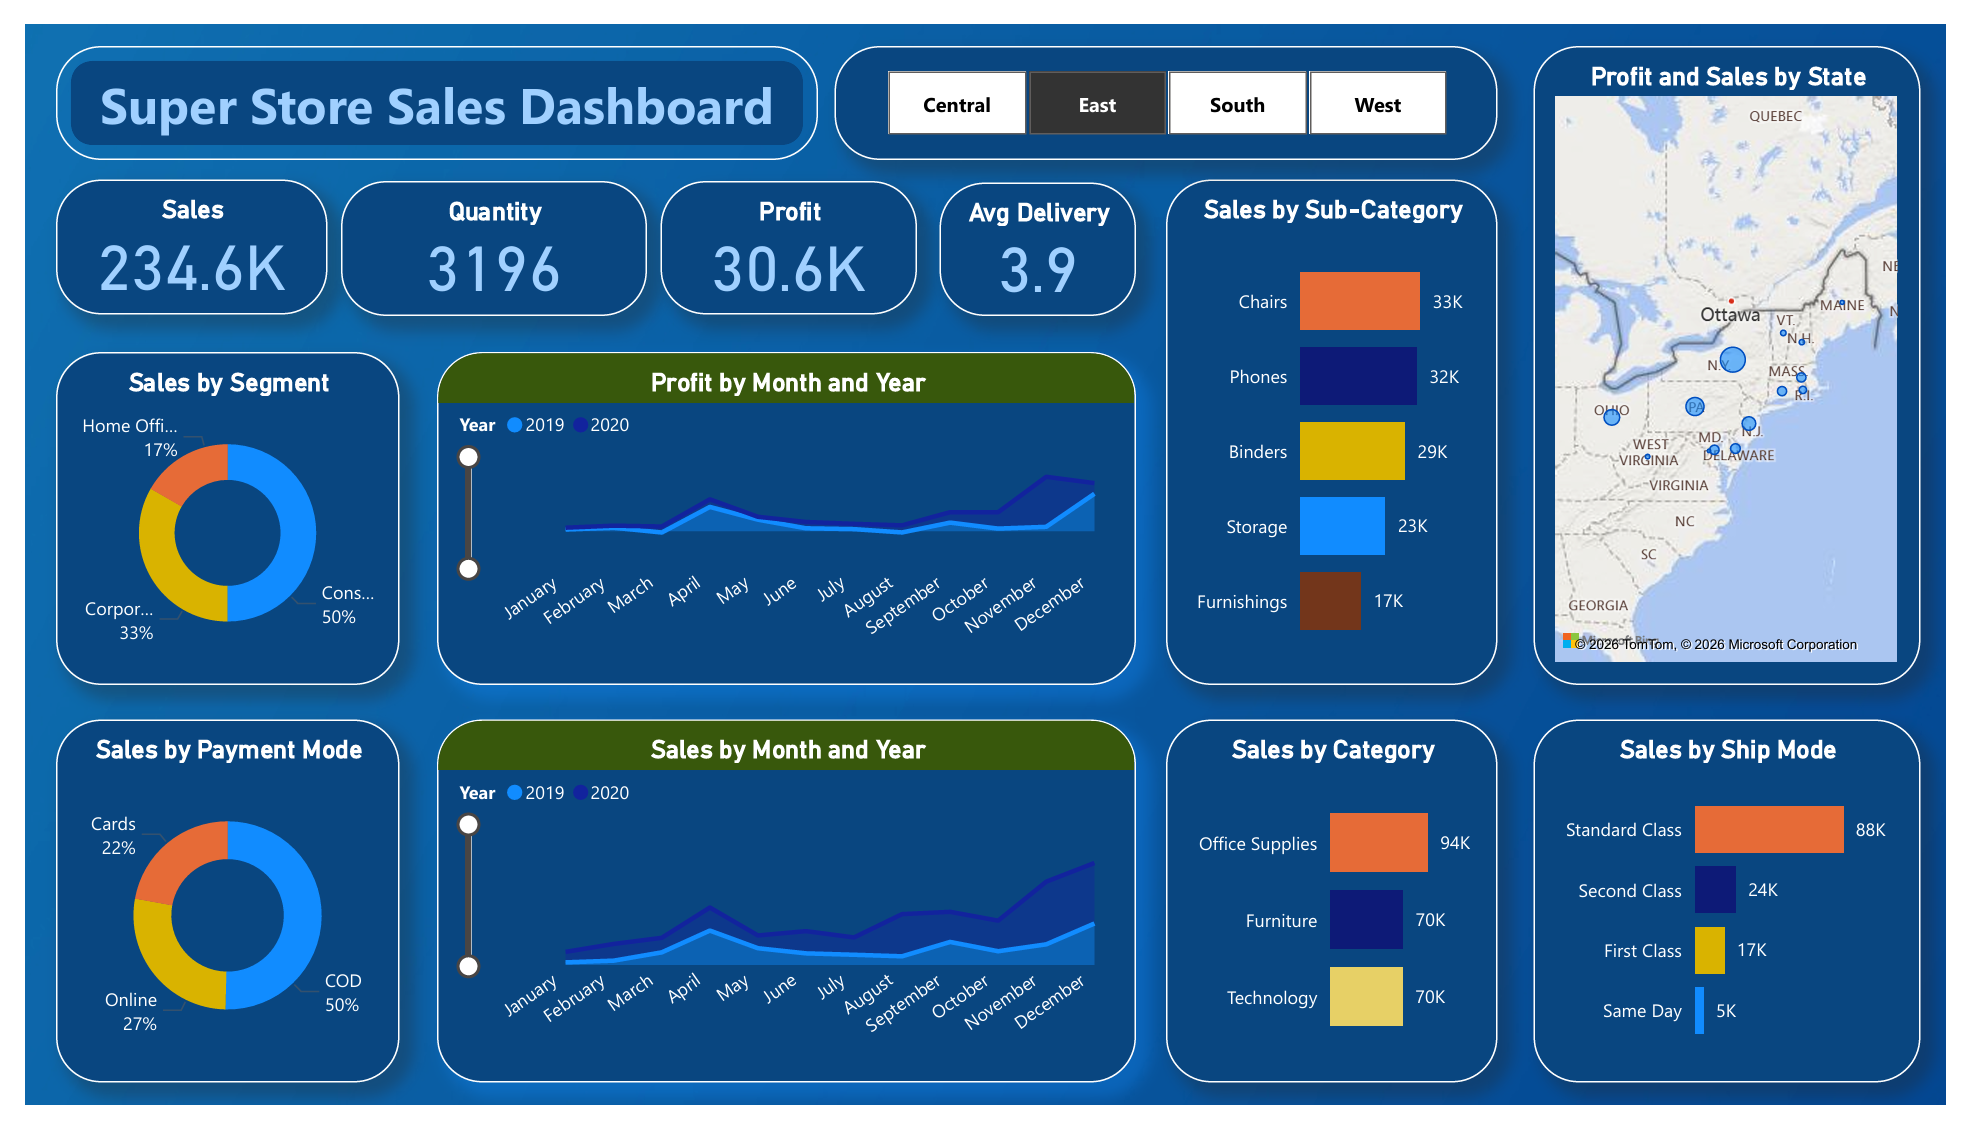

Layout of this report page (visuals, bound fields, positions):
{"tool":"powerbi","page":{"name":"Page 1","canvas":[1280,720],"ordinal":0},"visuals":[{"type":"clusteredBarChart","title":"Sales by Category","fields":{"Category":["SuperStore_Sales_Dataset.Category"],"Y":["Sum(SuperStore_Sales_Dataset.Sales)"]},"box":[760,462.5,221.2,242.5],"z":0},{"type":"shape","title":"Super Store Sales Dashboard","box":[20,13.8,507.5,76.2],"z":1000},{"type":"donutChart","title":"Sales by Segment","fields":{"Category":["SuperStore_Sales_Dataset.Segment"],"Y":["Sum(SuperStore_Sales_Dataset.Sales)"]},"box":[20,217.5,228.8,222.5],"z":2000},{"type":"clusteredBarChart","title":"Sales by Sub-Category","fields":{"Y":["Sum(SuperStore_Sales_Dataset.Sales)"],"Category":["SuperStore_Sales_Dataset.Sub-Category"]},"box":[760,102.5,221.2,337.5],"z":3000},{"type":"stackedAreaChart","title":"Sales by Month and Year","fields":{"Category":["SuperStore_Sales_Dataset.Order Date New.Variation.Date Hierarchy.Month"],"Y":["Sum(SuperStore_Sales_Dataset.Sales)"],"Series":["SuperStore_Sales_Dataset.Order Date New.Variation.Date Hierarchy.Year"]},"box":[273.8,462.5,466.2,242.5],"z":4000},{"type":"stackedAreaChart","title":"Profit by Month and Year","fields":{"Category":["SuperStore_Sales_Dataset.Order Date New.Variation.Date Hierarchy.Month"],"Series":["SuperStore_Sales_Dataset.Order Date New.Variation.Date Hierarchy.Year"],"Y":["Sum(SuperStore_Sales_Dataset.Profit)"]},"box":[273.8,217.5,466.2,222.5],"z":5000},{"type":"map","title":"Profit and Sales by State","fields":{"Category":["SuperStore_Sales_Dataset.State"],"Size":["Sum(SuperStore_Sales_Dataset.Sales)"]},"box":[1005,13.8,257.5,426.2],"z":6000},{"type":"donutChart","title":"Sales by Payment Mode","fields":{"Y":["Sum(SuperStore_Sales_Dataset.Sales)"],"Category":["SuperStore_Sales_Dataset.Payment Mode"]},"box":[20,462.5,228.8,242.5],"z":7000},{"type":"slicer","fields":{"Values":["SuperStore_Sales_Dataset.Region"]},"box":[538.8,13.8,442.5,76.2],"z":8000},{"type":"card","title":"Sales","fields":{"Values":["Sum(SuperStore_Sales_Dataset.Sales)"]},"box":[20,102.5,181.2,90],"z":9000},{"type":"card","title":"Quantity","fields":{"Values":["Sum(SuperStore_Sales_Dataset.Quantity)"]},"box":[210,103.8,203.8,90],"z":10000},{"type":"card","title":"Profit","fields":{"Values":["Sum(SuperStore_Sales_Dataset.Profit)"]},"box":[422.5,103.8,171.2,88.8],"z":11000},{"type":"card","title":"Avg Delivery","fields":{"Values":["Avg(SuperStore_Sales_Dataset.AvgDelivery)"]},"box":[608.8,105,131.2,88.8],"z":12000},{"type":"clusteredBarChart","title":"Sales by Ship Mode","fields":{"Y":["Sum(SuperStore_Sales_Dataset.Sales)"],"Category":["SuperStore_Sales_Dataset.Ship Mode"]},"box":[1005,462.5,257.5,242.5],"z":13000}]}

Visuals, with their boxes in screenshot pixels (x1, y1, x2, y2), scaled from the page's 1280x720 canvas onto the 1969x1131 screenshot:
"Sales by Category" clusteredBarChart: {"x1": 1169, "y1": 727, "x2": 1509, "y2": 1107}
"Super Store Sales Dashboard" shape: {"x1": 31, "y1": 22, "x2": 811, "y2": 141}
"Sales by Segment" donutChart: {"x1": 31, "y1": 342, "x2": 383, "y2": 691}
"Sales by Sub-Category" clusteredBarChart: {"x1": 1169, "y1": 161, "x2": 1509, "y2": 691}
"Sales by Month and Year" stackedAreaChart: {"x1": 421, "y1": 727, "x2": 1138, "y2": 1107}
"Profit by Month and Year" stackedAreaChart: {"x1": 421, "y1": 342, "x2": 1138, "y2": 691}
"Profit and Sales by State" map: {"x1": 1546, "y1": 22, "x2": 1942, "y2": 691}
"Sales by Payment Mode" donutChart: {"x1": 31, "y1": 727, "x2": 383, "y2": 1107}
slicer - SuperStore_Sales_Dataset.Region: {"x1": 829, "y1": 22, "x2": 1510, "y2": 141}
"Sales" card: {"x1": 31, "y1": 161, "x2": 310, "y2": 302}
"Quantity" card: {"x1": 323, "y1": 163, "x2": 637, "y2": 304}
"Profit" card: {"x1": 650, "y1": 163, "x2": 913, "y2": 303}
"Avg Delivery" card: {"x1": 937, "y1": 165, "x2": 1138, "y2": 304}
"Sales by Ship Mode" clusteredBarChart: {"x1": 1546, "y1": 727, "x2": 1942, "y2": 1107}
